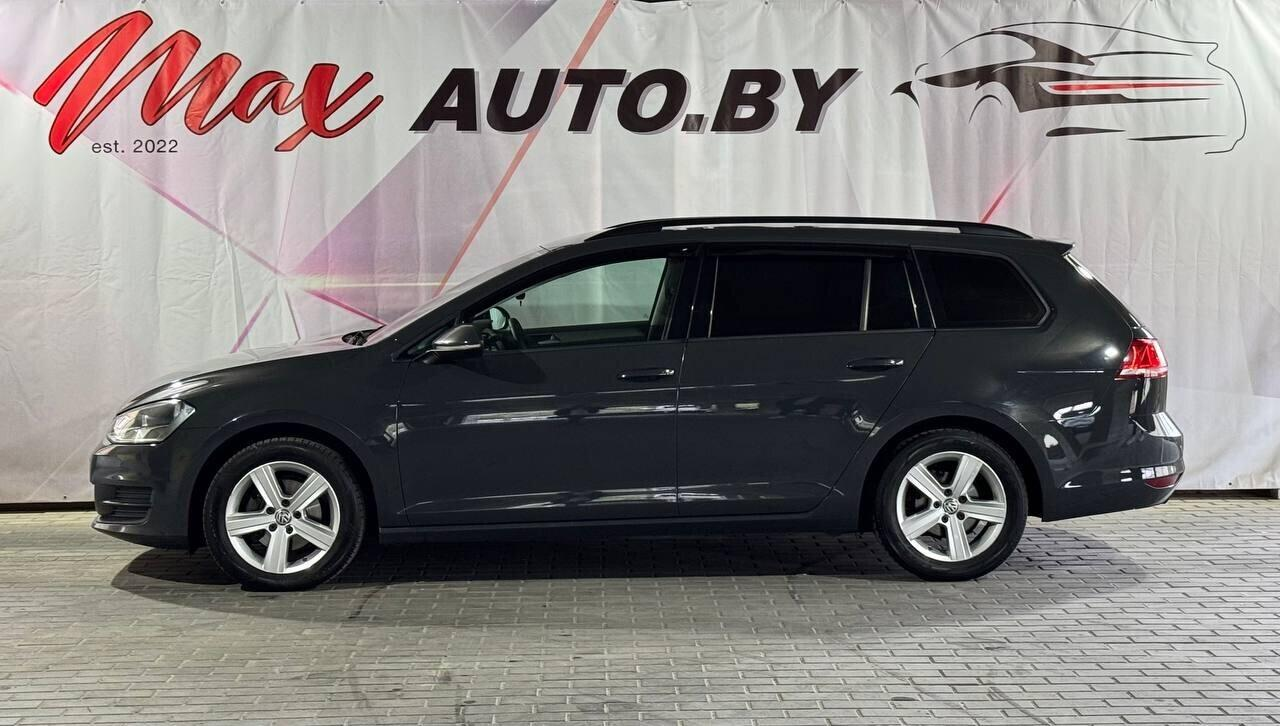Golf_2012-2017: (87, 216, 1186, 590)
